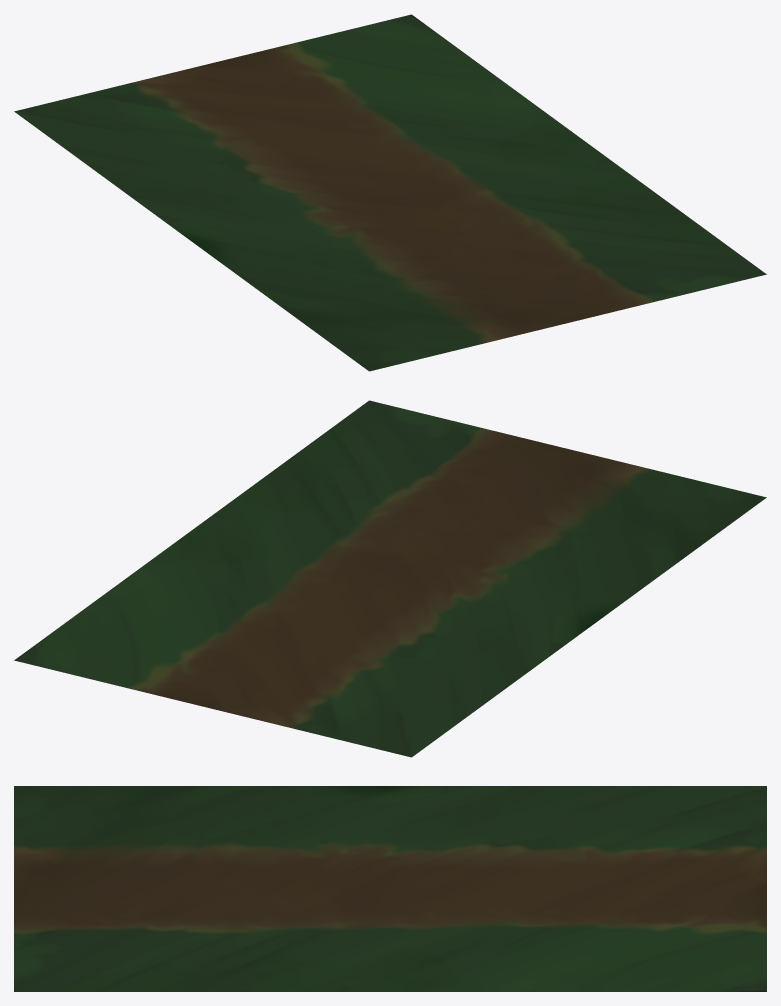
Rendered from Floor.fbx.
The picture shows the model from 3 angles, top to bottom: view 1: azimuth 30°, elevation 25°; view 2: azimuth 150°, elevation 25°; view 3: azimuth 270°, elevation 25°; orthographic projection. The views are drawn at different scales.
Visible parts, largest first — view 1: Grid; view 2: Grid; view 3: Grid.
Part boxes in pixels (left/top/right/bottom): Grid: left=14, top=14, right=766, bottom=371; Grid: left=14, top=400, right=766, bottom=757; Grid: left=14, top=786, right=766, bottom=991.
Size of the model in its own units: 530 by 0.000134 by 820.
